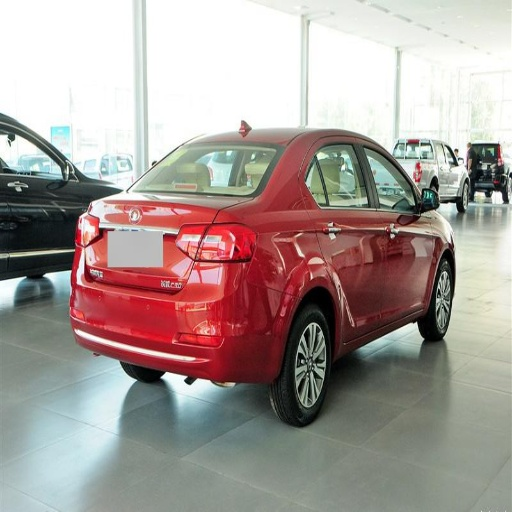back_bumper: (70, 263, 293, 380)
back_right_door: (303, 137, 386, 336)
tailgate: (90, 193, 218, 265)
trunk: (78, 208, 218, 341)
